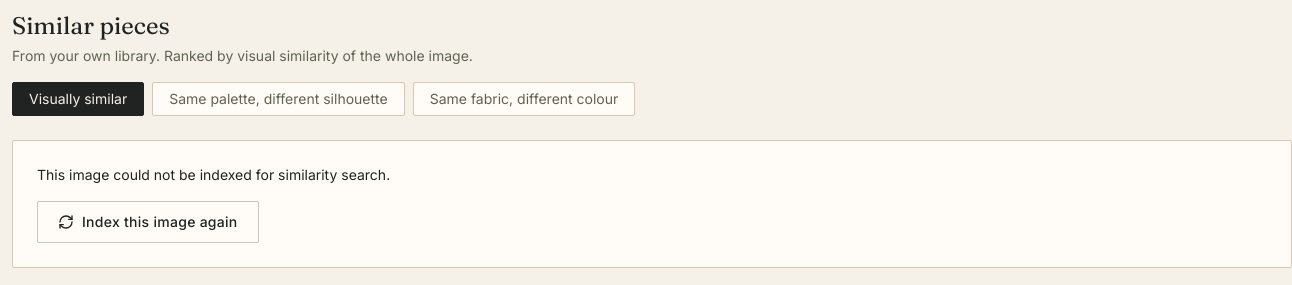
Test case: SimilarPieces › offers re-indexing when this image could not be embedded
The image size is (1292, 285).
Click the button "Index this image again" at (148, 222), box [37,201,259,243]
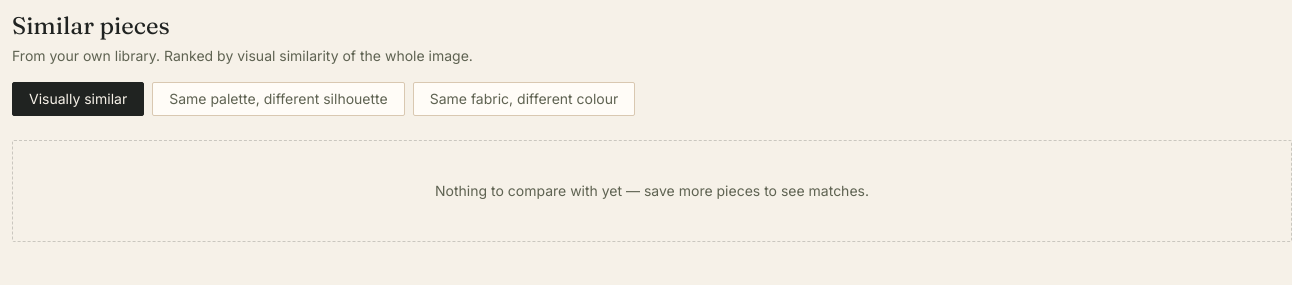
Check: the text "Nothing to compare with yet" is shown, box [435,182,869,199]
